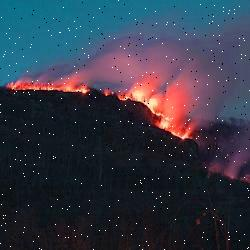fire: (2, 66, 206, 146)
